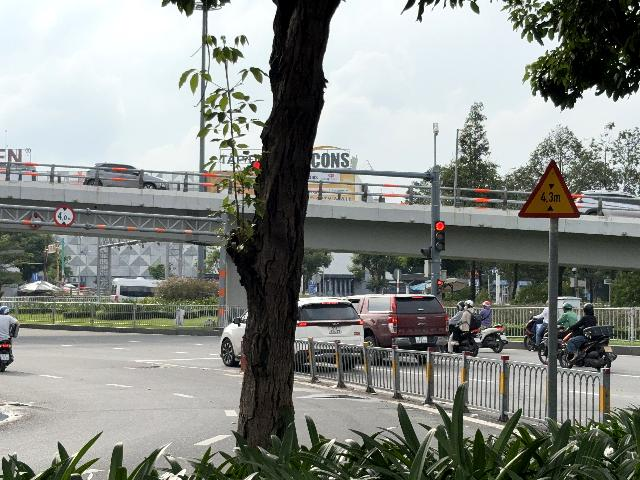chieu-cao-tinh-khong-thuc-te: (518, 160, 580, 219)
